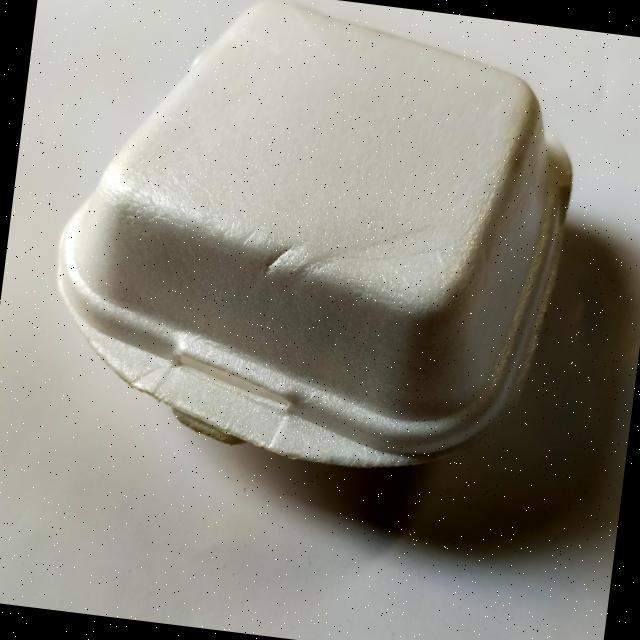styrofoam: (33, 0, 592, 492)
